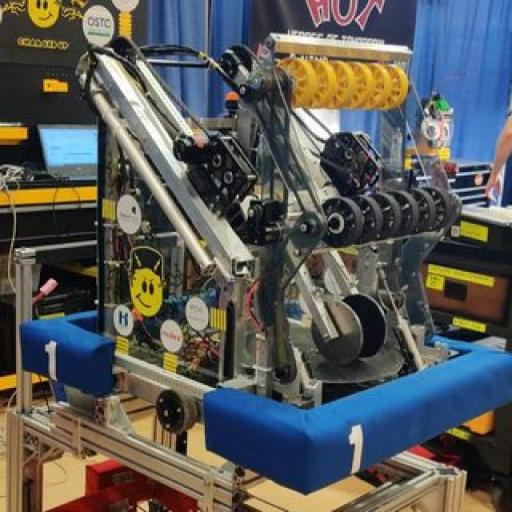robot: (17, 31, 512, 491)
